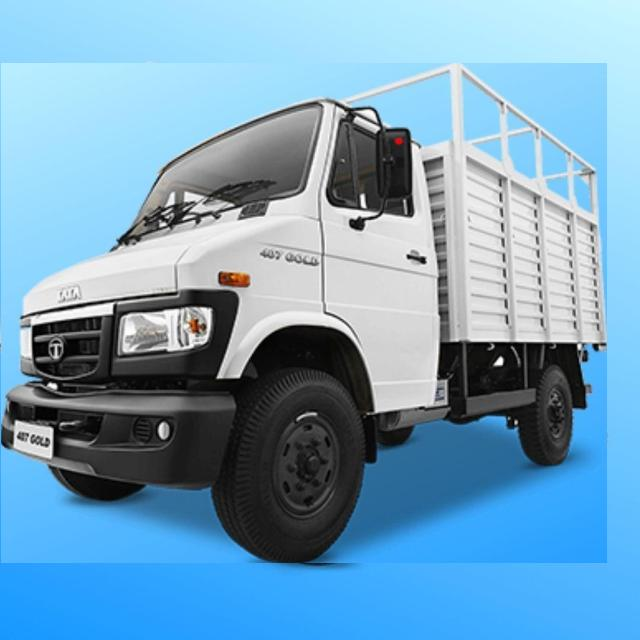truck: (1, 64, 606, 563)
